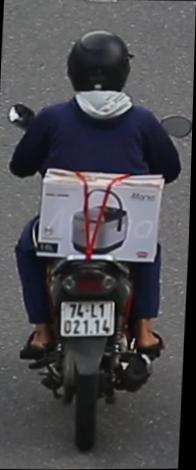LP: (59, 294, 121, 342)
helmet: (64, 24, 136, 102)
